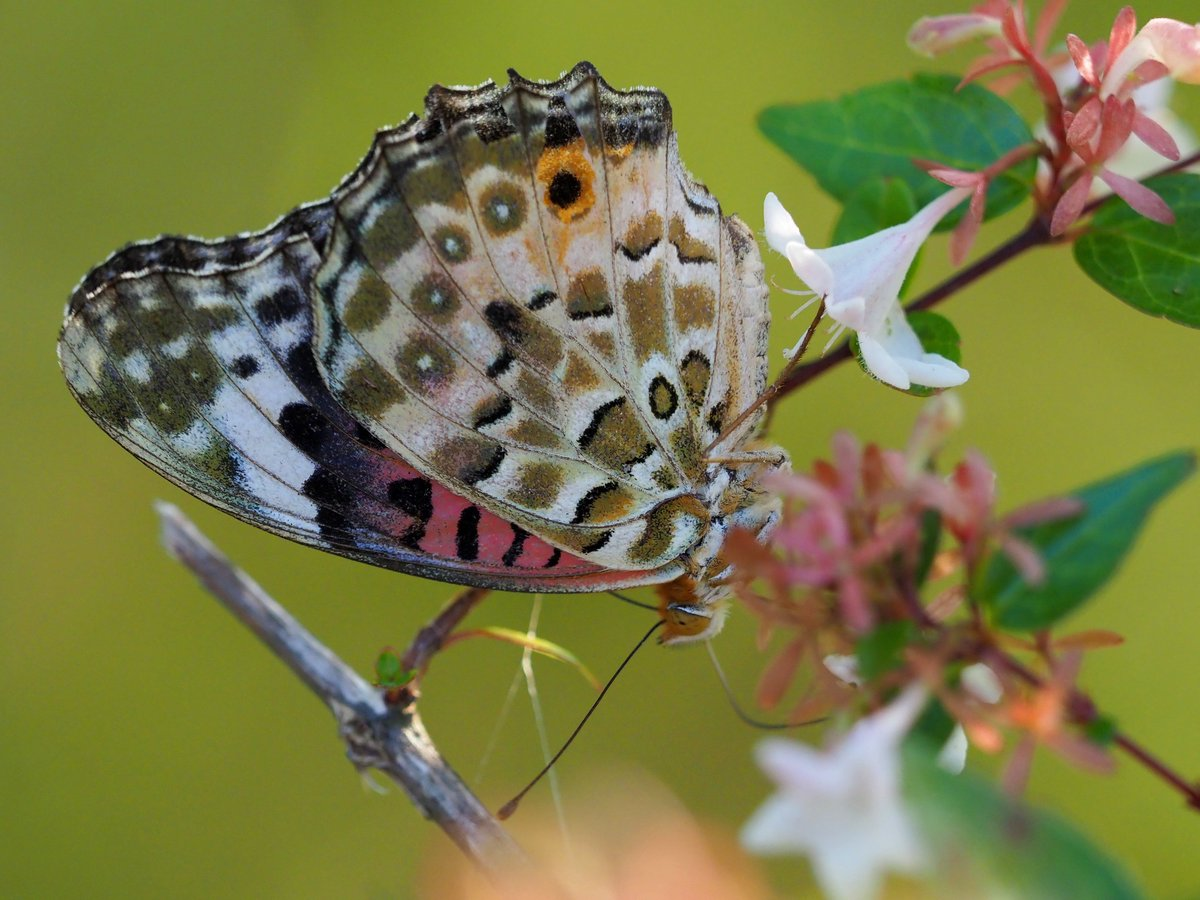Argyreus hyperbius: (42, 56, 834, 819)
butterfly: (44, 58, 836, 821)
